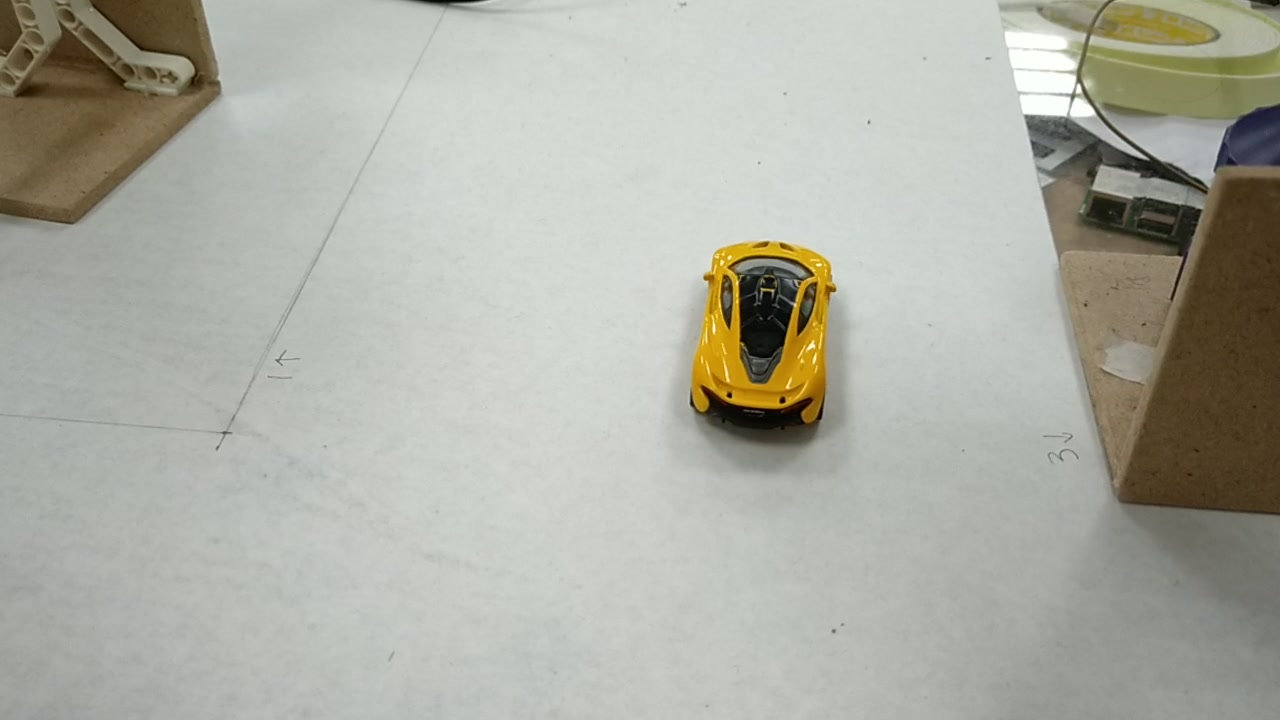car: (693, 250, 839, 429)
